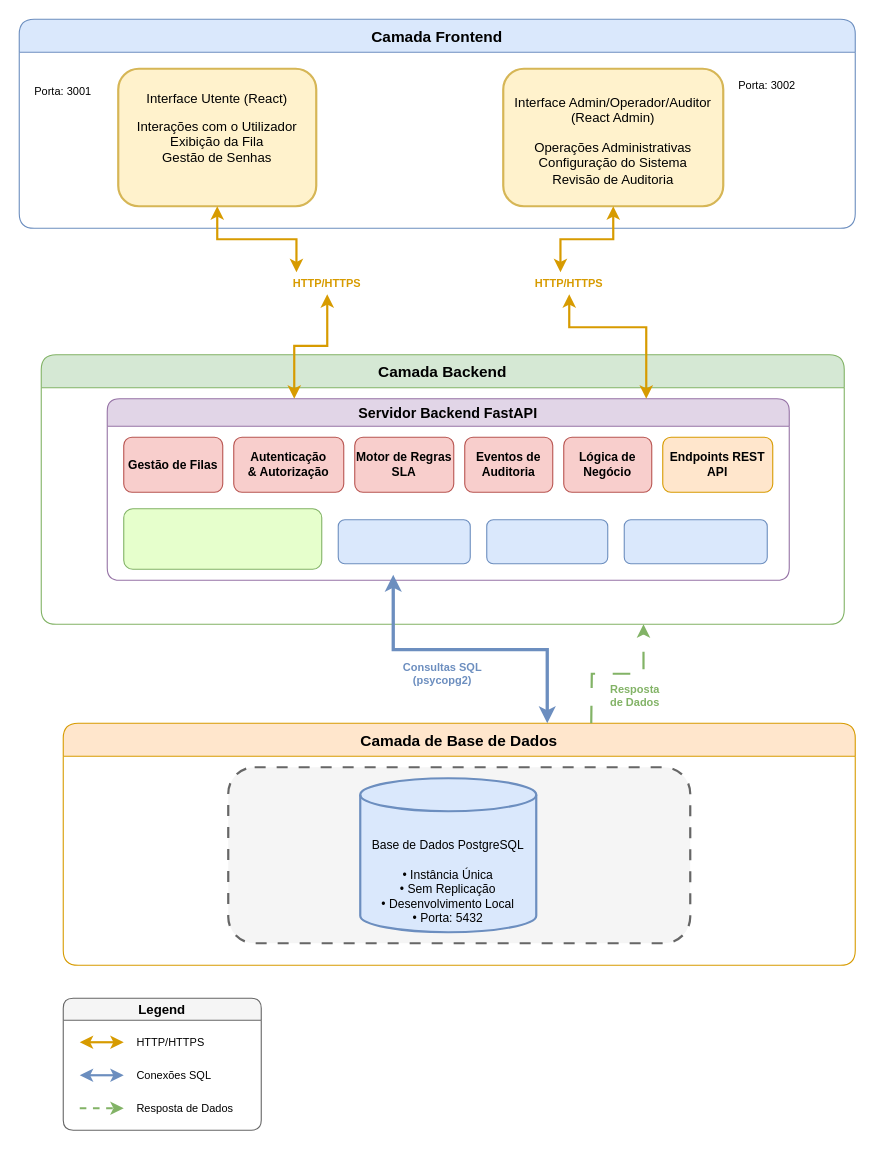
This 875x1150 diagram has some shape labels left out. The centre of each missing label's shape, as x and y in pixels:
"Endpoints de Monitorização (/health, /metrics, /status)" belongs at (x=222, y=538).
"Migrações Alembic" belongs at (x=695, y=541).
"Modelos Pydantic" belongs at (x=547, y=541).
"ORM SQLAlchemy" belongs at (x=403, y=541).
